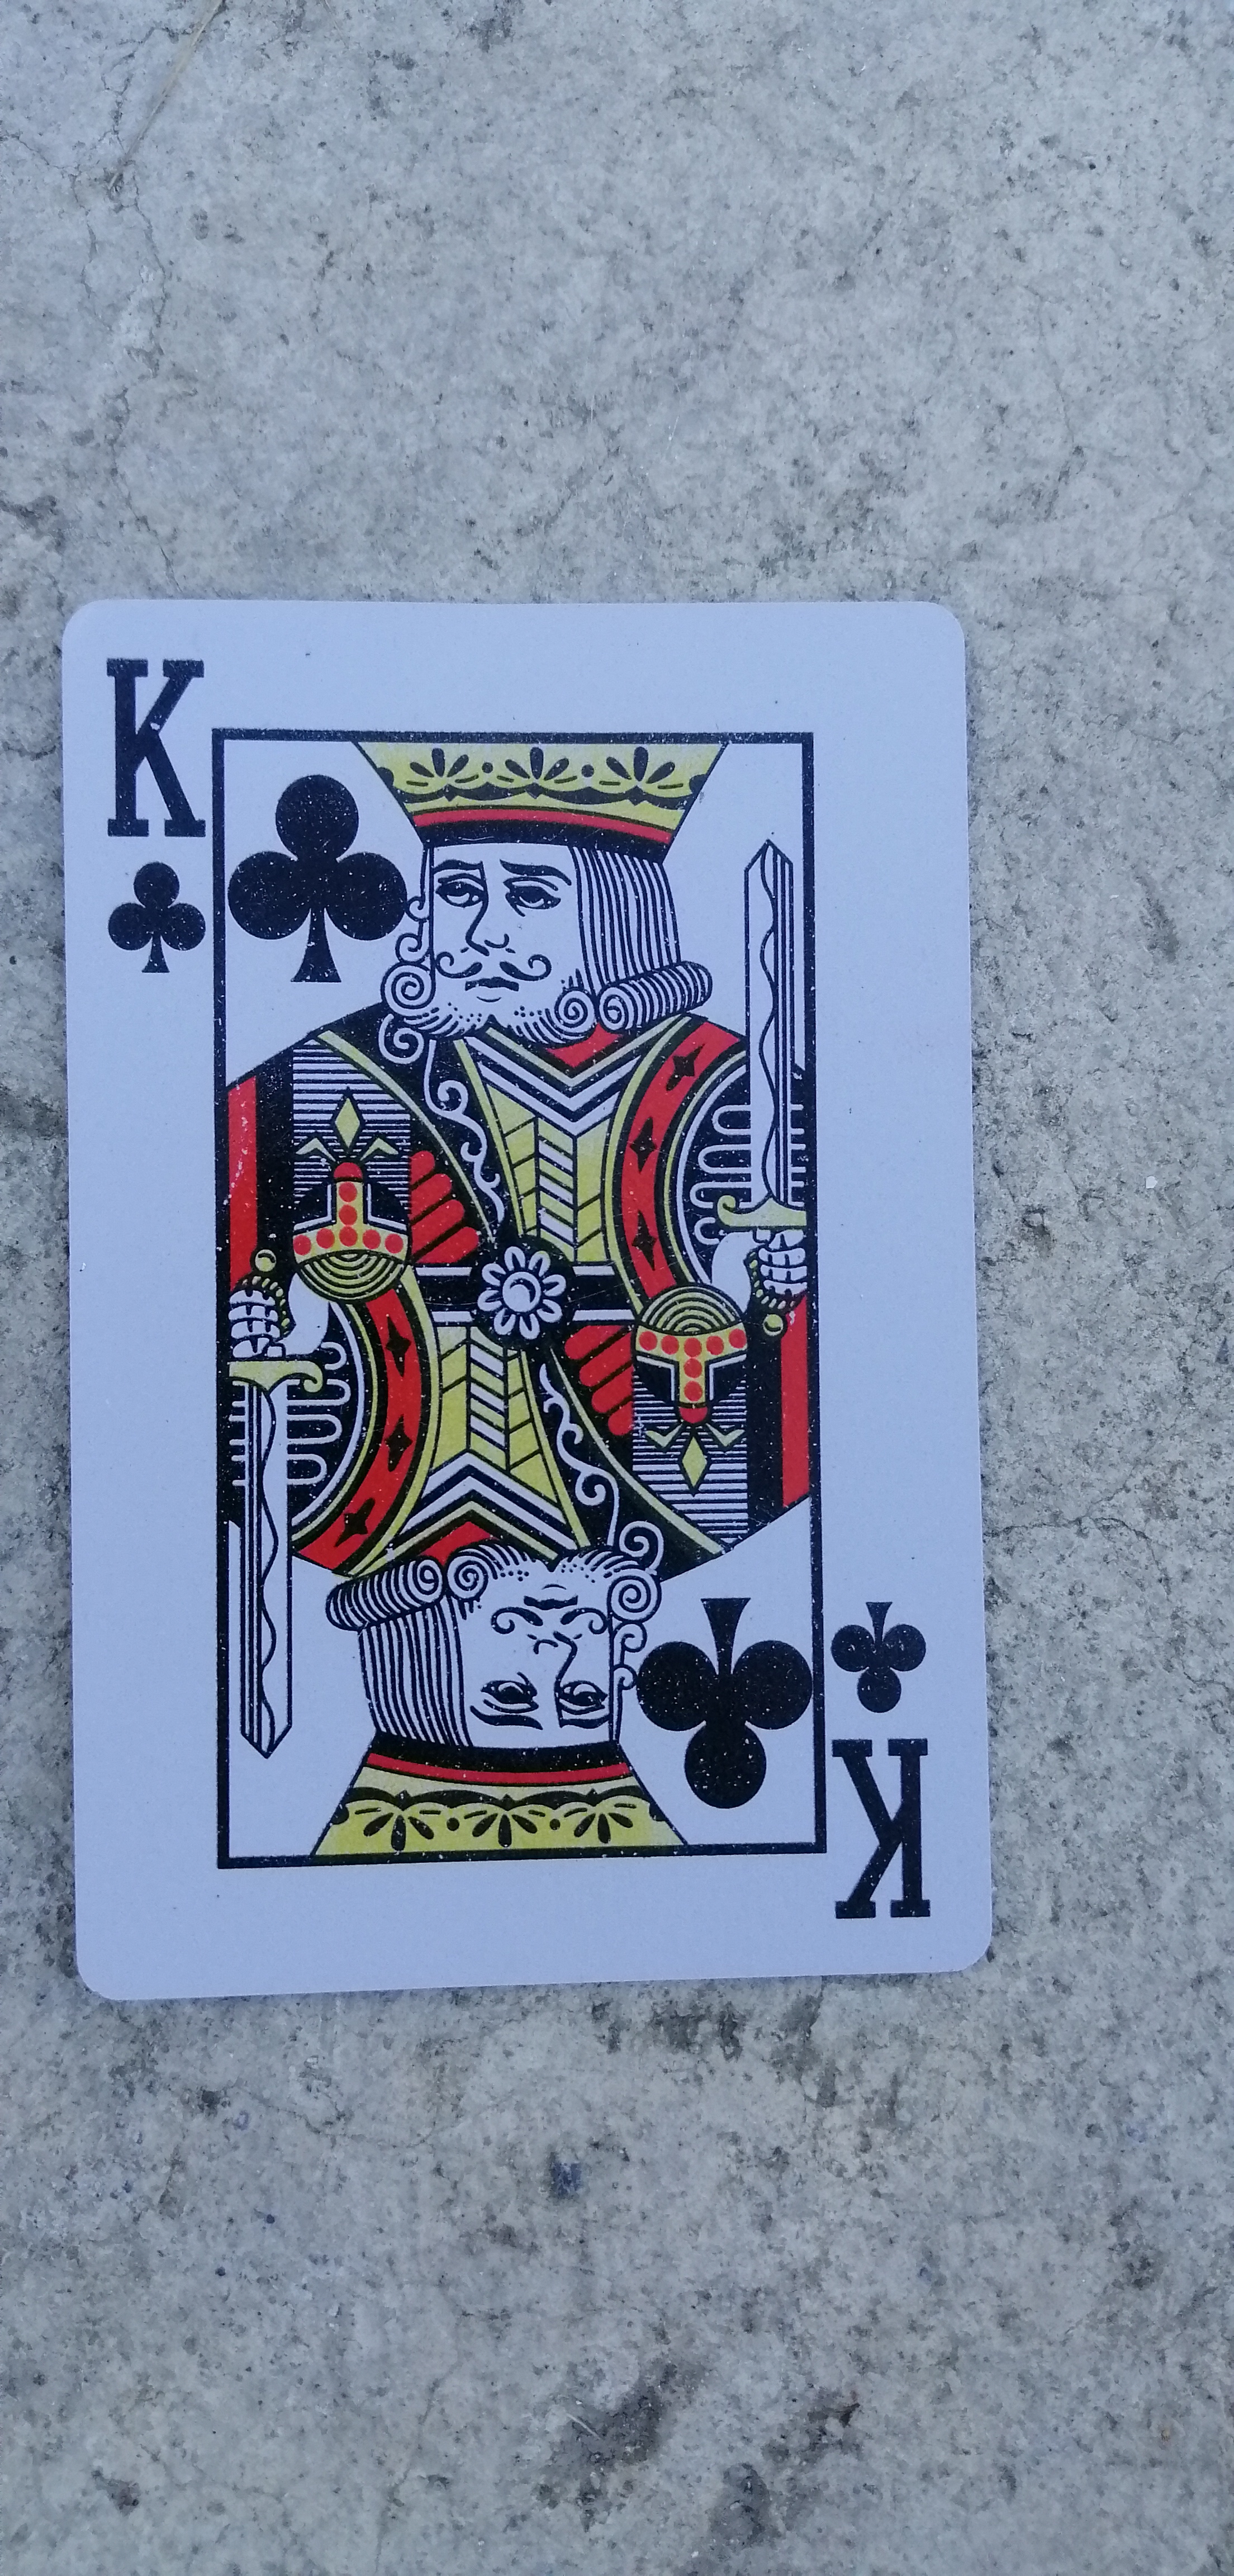king: (48, 601, 1019, 1991)
